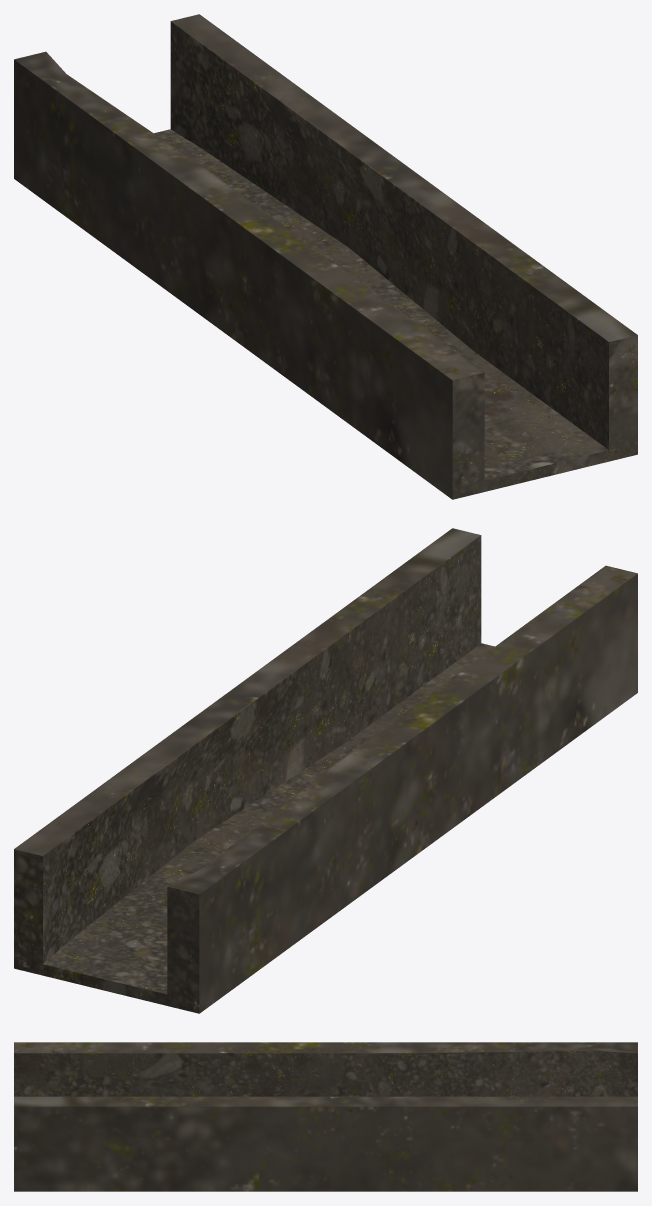
Rendered from Straight3.fbx.
The picture shows the model from 3 angles, top to bottom: view 1: azimuth 30°, elevation 25°; view 2: azimuth 150°, elevation 25°; view 3: azimuth 270°, elevation 25°; orthographic projection. The views are drawn at different scales.
Visible parts, largest first — view 1: detail2; view 2: detail2; view 3: detail2.
Part boxes in pixels (bbox=[...]): detail2: bbox=[14, 14, 637, 499]; detail2: bbox=[14, 528, 637, 1013]; detail2: bbox=[14, 1042, 637, 1191].
Size of the model in its own units: 842 by 518 by 3450.
Materials: 1 (1 with a texture image).
